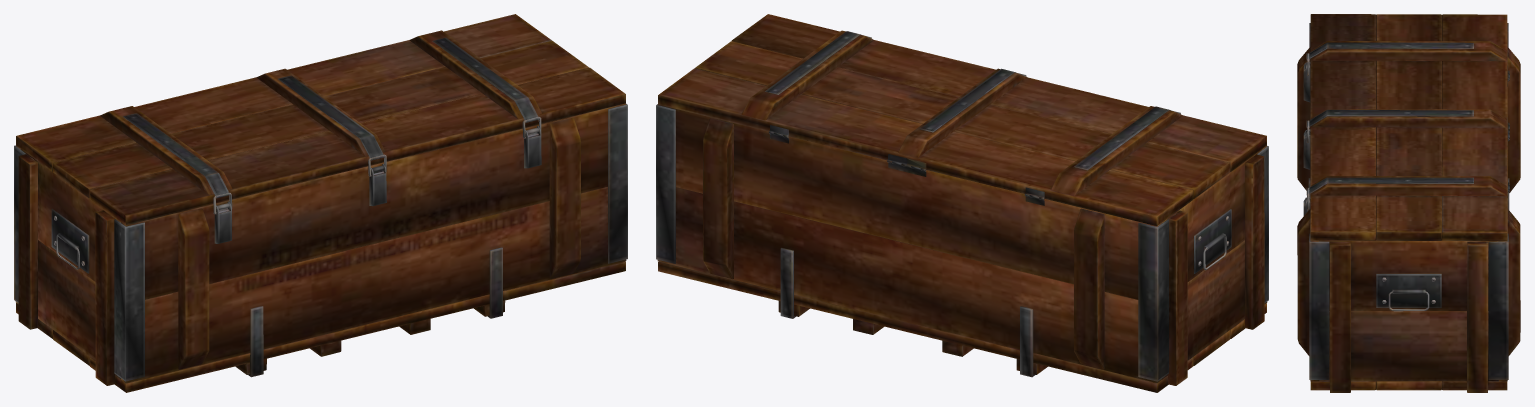
Rendered from wooden_military_crate.glb.
The picture shows the model from 3 angles, left to right: view 1: azimuth 30°, elevation 25°; view 2: azimuth 150°, elevation 25°; view 3: azimuth 270°, elevation 25°; orthographic projection. The views are drawn at different scales.
Visible parts, largest first — view 1: wooden_military_crate; view 2: wooden_military_crate; view 3: wooden_military_crate.
Boxes of the visible parts, x1=… form: wooden_military_crate: x1=14, y1=14, x2=627, y2=392; wooden_military_crate: x1=656, y1=14, x2=1268, y2=392; wooden_military_crate: x1=1297, y1=14, x2=1520, y2=392.
Bounding box in the file's own units: 1.24 × 0.4639 × 0.5198.
1 material, 1 textured.
